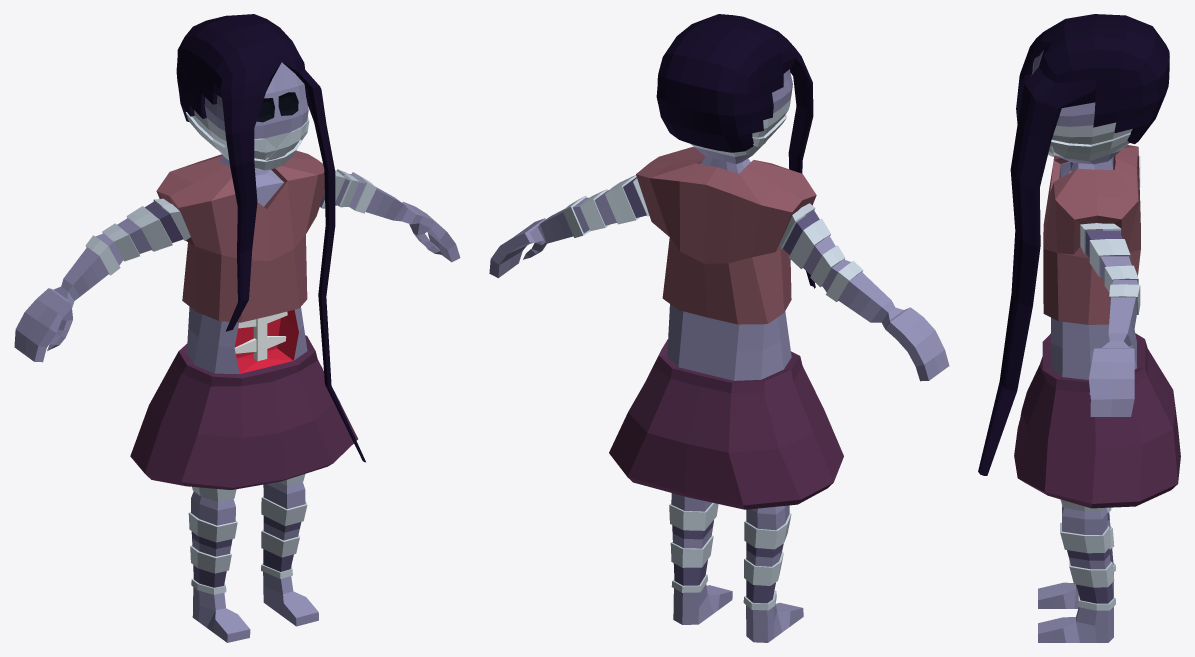
Rendered from Degolificada v5.fbx.
The picture shows the model from 3 angles, left to right: view 1: azimuth 30°, elevation 25°; view 2: azimuth 150°, elevation 25°; view 3: azimuth 270°, elevation 25°; orthographic projection. The views are drawn at different scales.
Parts seen in each view (by area): view 1: Corpo, Cabelo; view 2: Corpo, Cabelo; view 3: Corpo, Cabelo.
Boxes of the visible parts, x1,y1,x2,y2 form: Corpo: [14, 62, 460, 642]; Cabelo: [176, 14, 365, 462]; Corpo: [489, 69, 949, 642]; Cabelo: [656, 14, 815, 288]; Corpo: [1014, 50, 1180, 642]; Cabelo: [978, 14, 1169, 475].
Bounding box in the file's own units: 1.3 × 1.71 × 0.5265.
